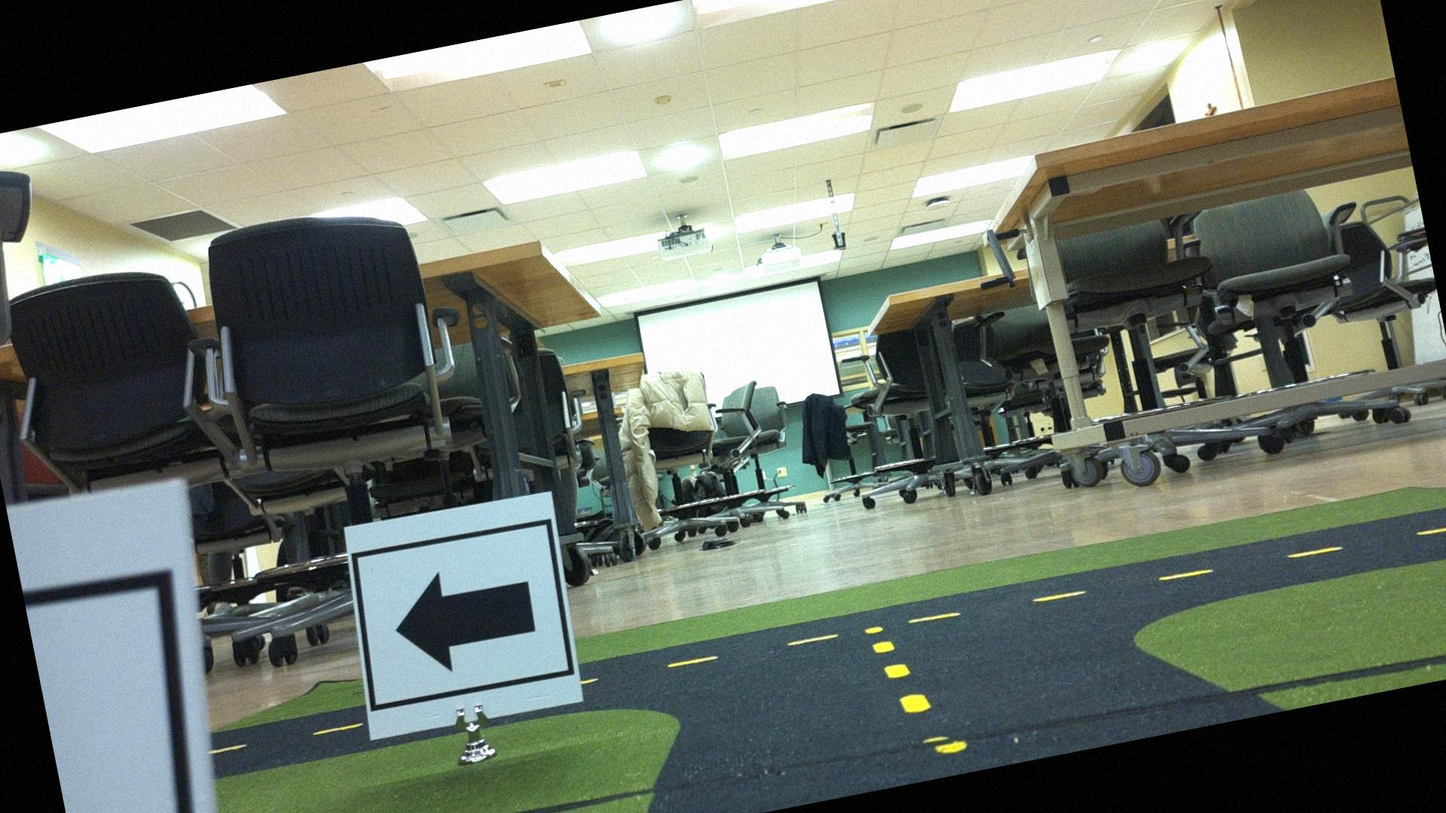turnleft: (343, 493, 578, 741)
yellowline: (669, 504, 1445, 681), (874, 637, 929, 720)
